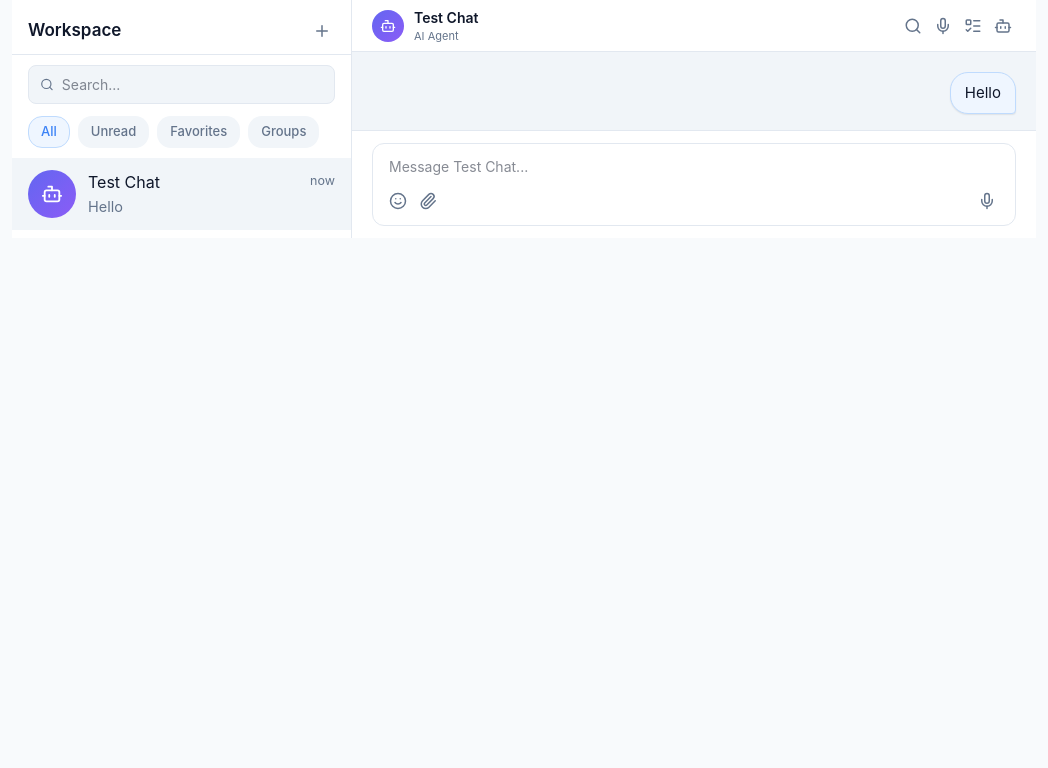
Test: ChatScreen › agent selector shows "Default" option and agent list
This screenshot has width=1048, height=768.
Click the button named "Select agent" at (1003, 26), box [990,12,1016,38]
(page scrolled)
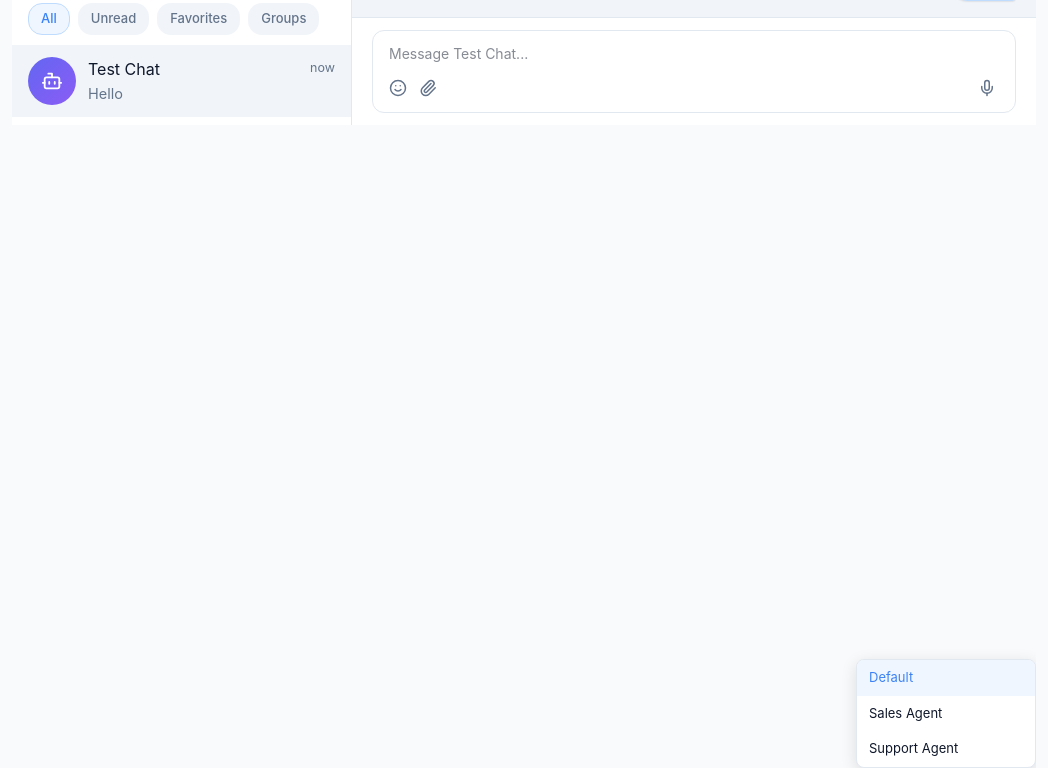
Check: the button "Default" is shown, box [857,660,1035,696]
